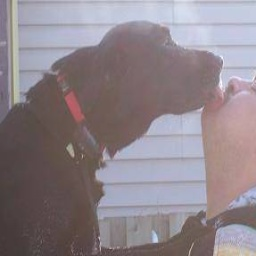dog: (1, 21, 227, 252)
